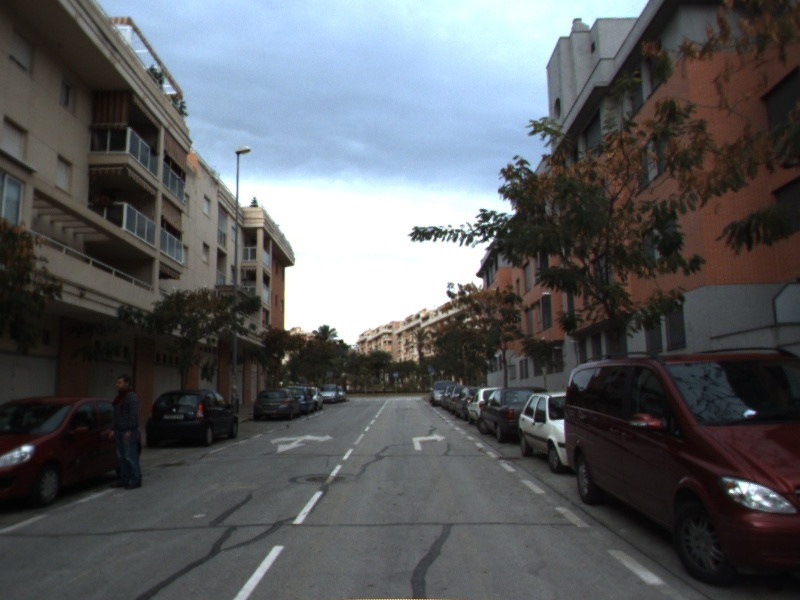RIGHT: (410, 431, 449, 452)
